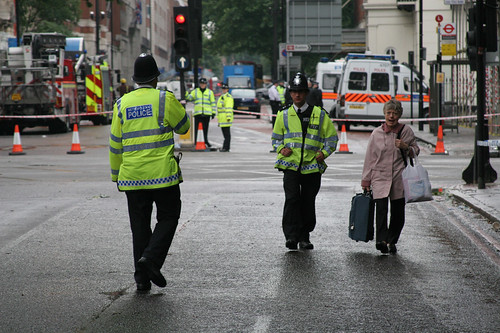firetruck: (1, 31, 120, 125)
policeman: (108, 50, 189, 298), (270, 71, 335, 251), (186, 74, 217, 145), (214, 80, 237, 154)
street: (1, 160, 458, 333)
traffic cone: (333, 121, 355, 154), (430, 123, 452, 156), (191, 123, 212, 155), (63, 123, 84, 155), (4, 125, 25, 157)
van: (327, 53, 401, 128)
